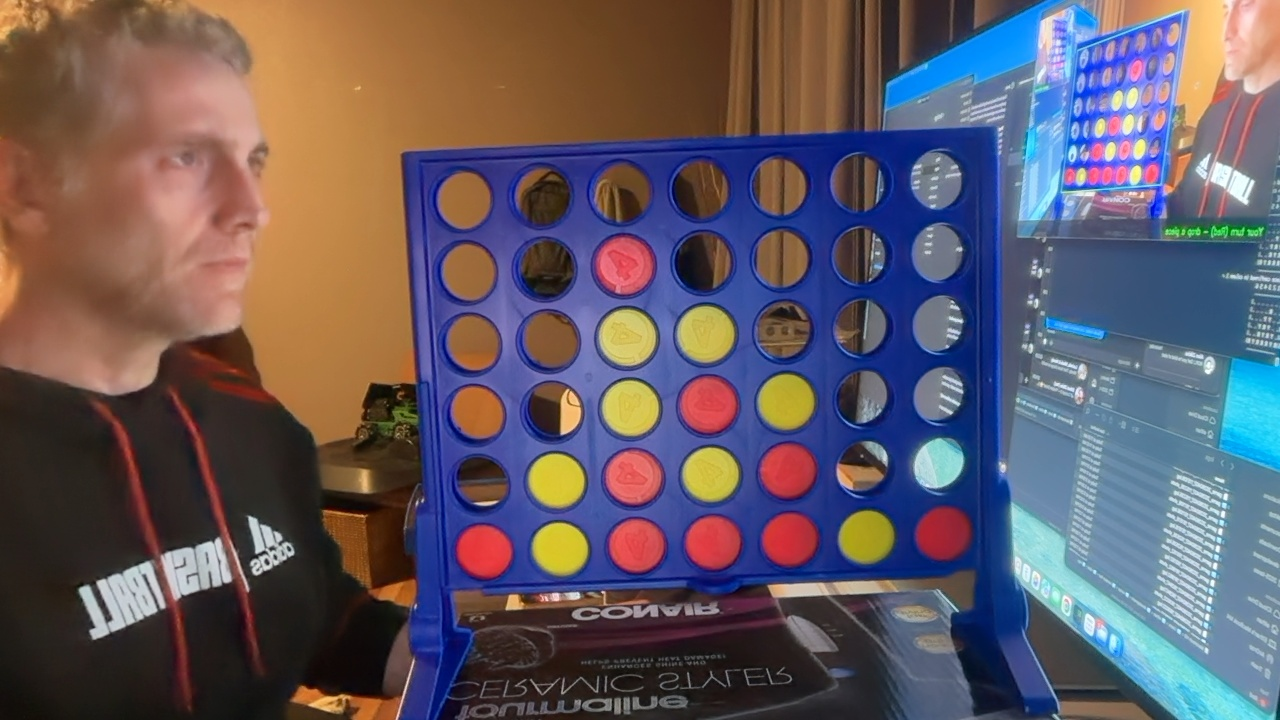red piece: (594, 235, 655, 296), (678, 376, 739, 434), (603, 449, 663, 506), (759, 442, 817, 499), (455, 524, 513, 580), (684, 515, 741, 571), (608, 518, 665, 574), (915, 506, 972, 561), (762, 512, 818, 567)
yellow piece: (676, 304, 736, 364), (597, 308, 657, 367), (600, 379, 660, 437), (757, 372, 815, 431), (527, 452, 586, 509), (681, 446, 740, 502), (531, 521, 589, 576), (838, 510, 895, 564)
